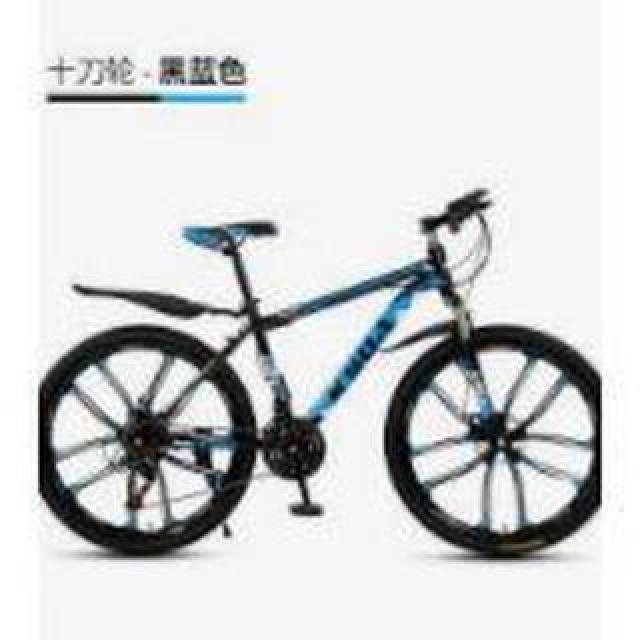Person: (32, 189, 616, 565)
